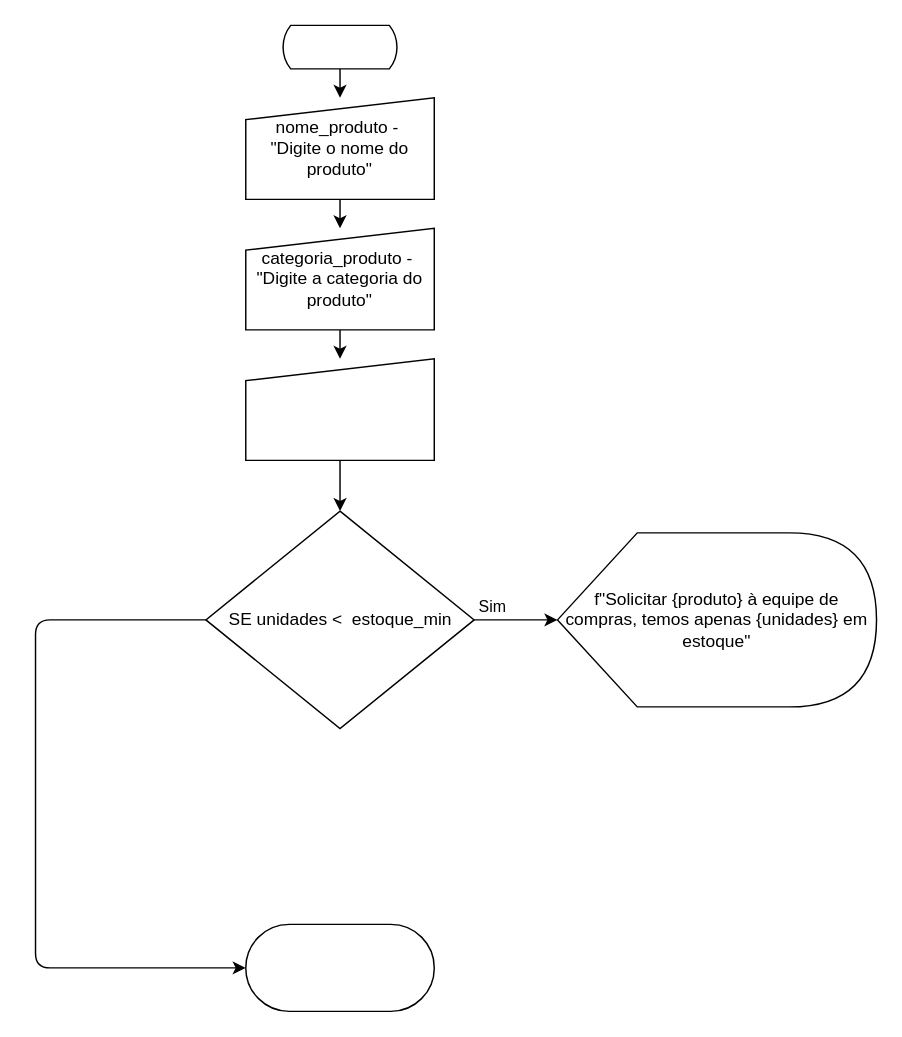
Image size: 902x1037. Some labels were removed from this diagram. Each missing label, with the centre of its shape:
fim: point (339, 967)
unidades - "Digite a quantidade do produto": point (339, 408)
